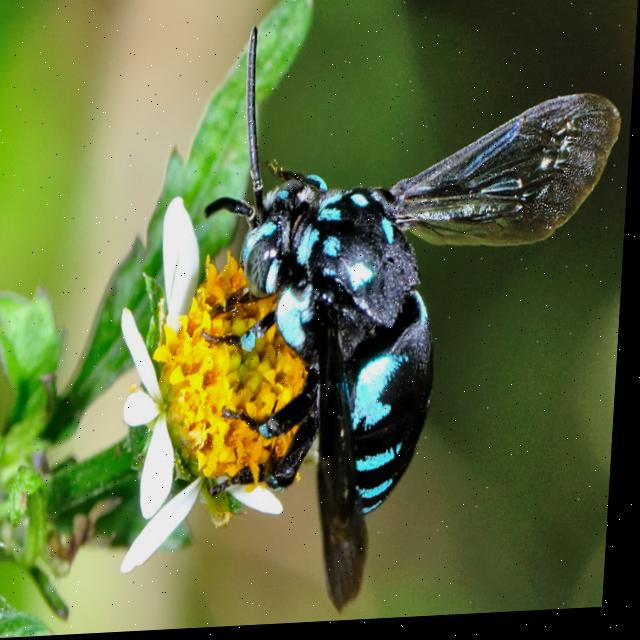Thyreus: (186, 4, 629, 630)
